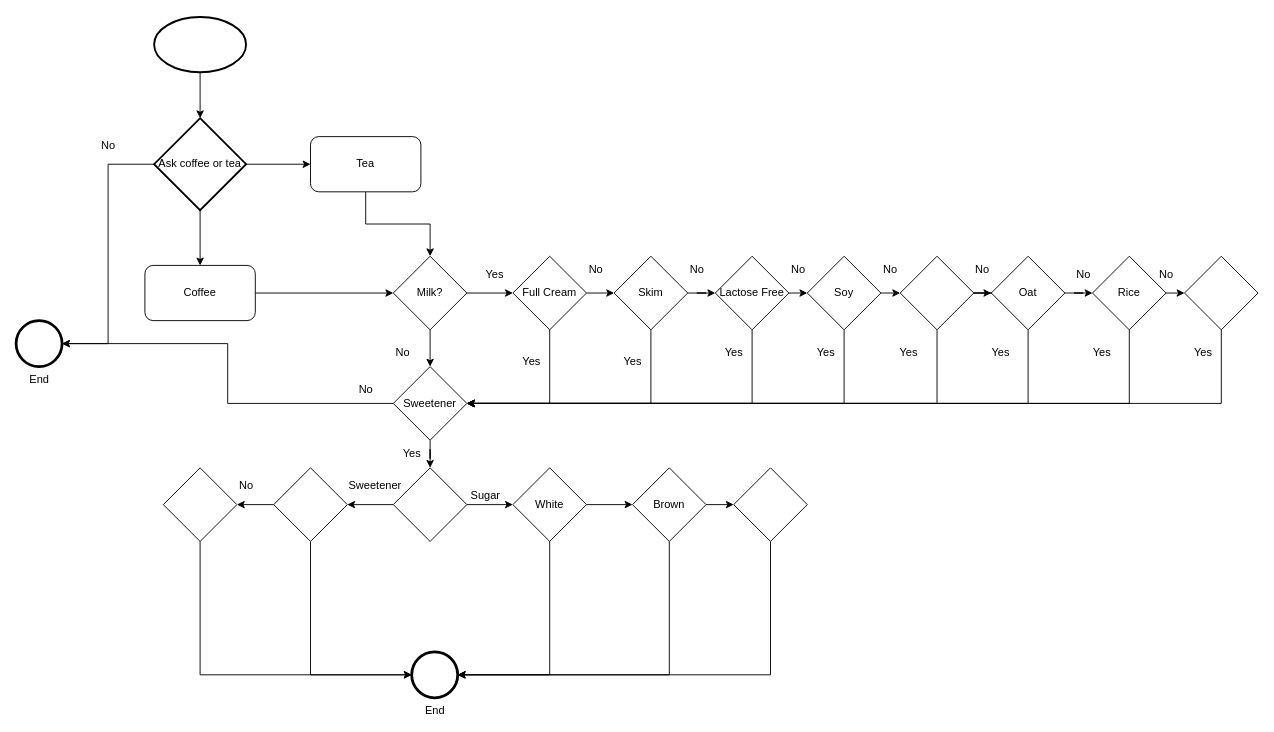
Some shapes in this 1274 by 732 pixel diagram are drawn without their labels. The shapes that lost their labels are listed below. From the top down, each one's centre as x and y in pixels, then its label:
(x=200, y=44): Start
(x=936, y=292): Almond
(x=1221, y=292): Goat
(x=199, y=504): Equal
(x=310, y=504): Stevia
(x=429, y=504): Sugar or Sweetener
(x=770, y=504): Raw
